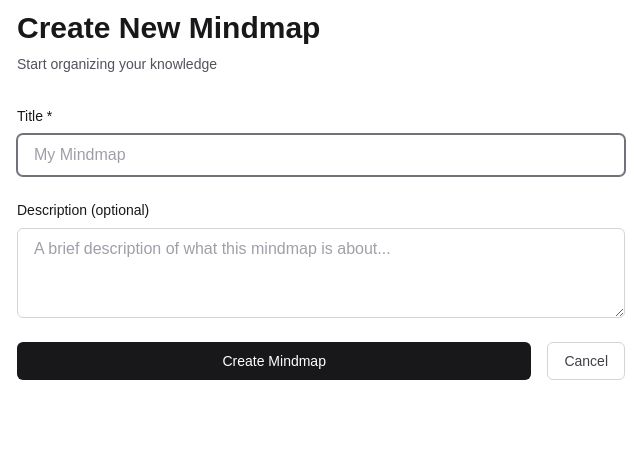
it: New Mindmap Page › should show generic error when API returns no error message
Type "Test Mindmap" into the field labelled "Title *" at (321, 155), box [17,134,625,176]
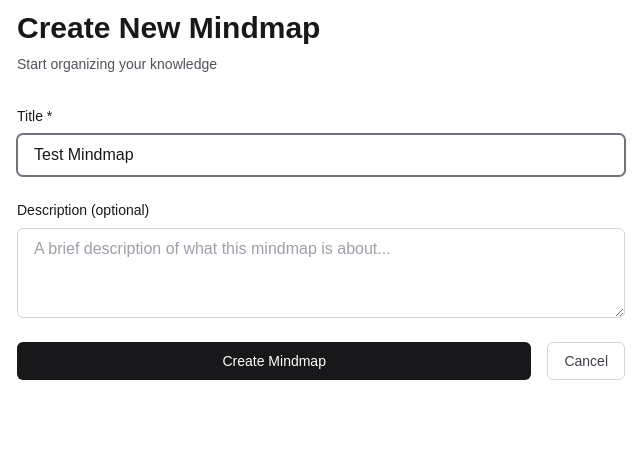
Click the button "Create Mindmap" at (274, 361), box [17,342,531,380]
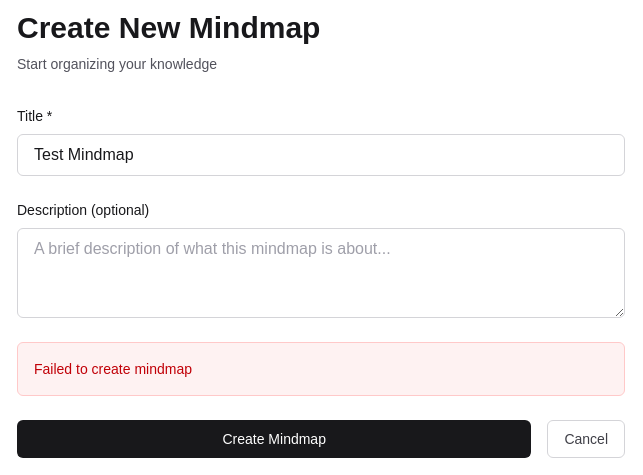
Check: the text "Failed to create mindmap" is shown, box [34,361,192,377]
